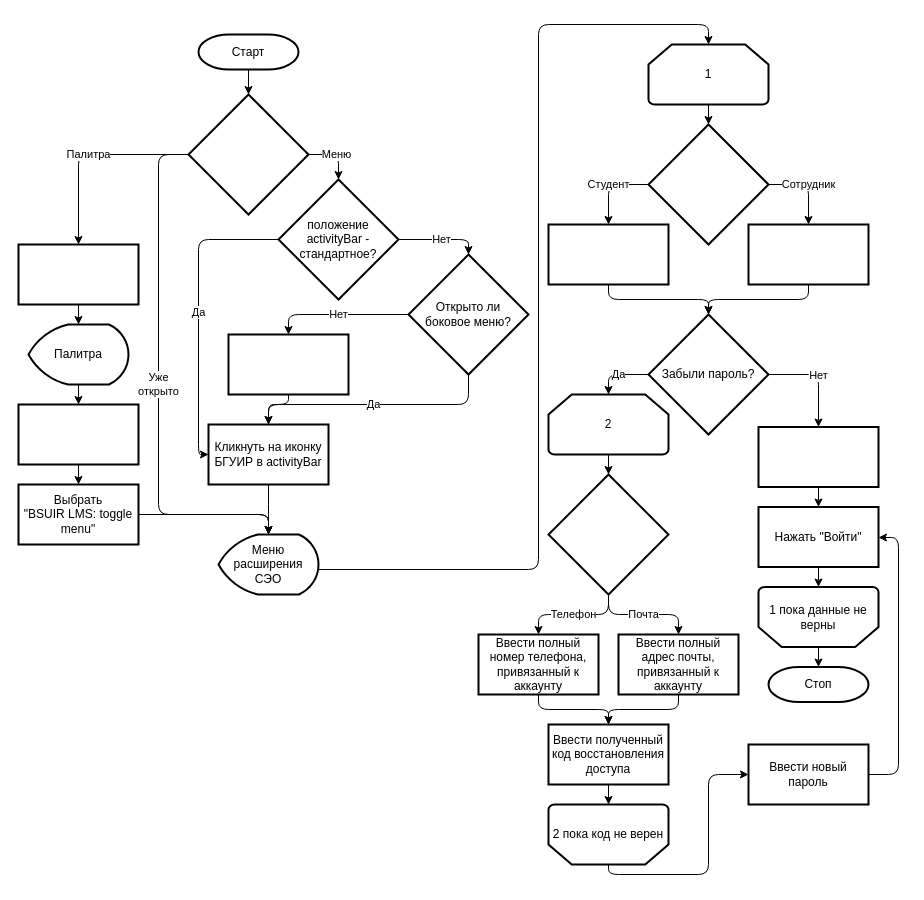
This 924x900 diagram has some shape labels left out. Here are the shapes that lost their labels. From the top down, the box of each, then its label:
(187, 93, 309, 215): Открыть меню расширения СЭО
(647, 123, 769, 245): Тип аккаунта
(17, 243, 139, 305): Прожать Ctrl+P
(547, 223, 669, 285): Ввести номер студенческого как логин
(747, 223, 869, 285): Ввести электронную почту как логин
(227, 333, 349, 395): Прожать Ctrl+b
(17, 403, 139, 465): Набрать целиком или частично "BSUIR LMS: toggle menu"
(757, 426, 879, 488): Ввести пароль
(547, 473, 669, 595): Выбрать метод восстановления
